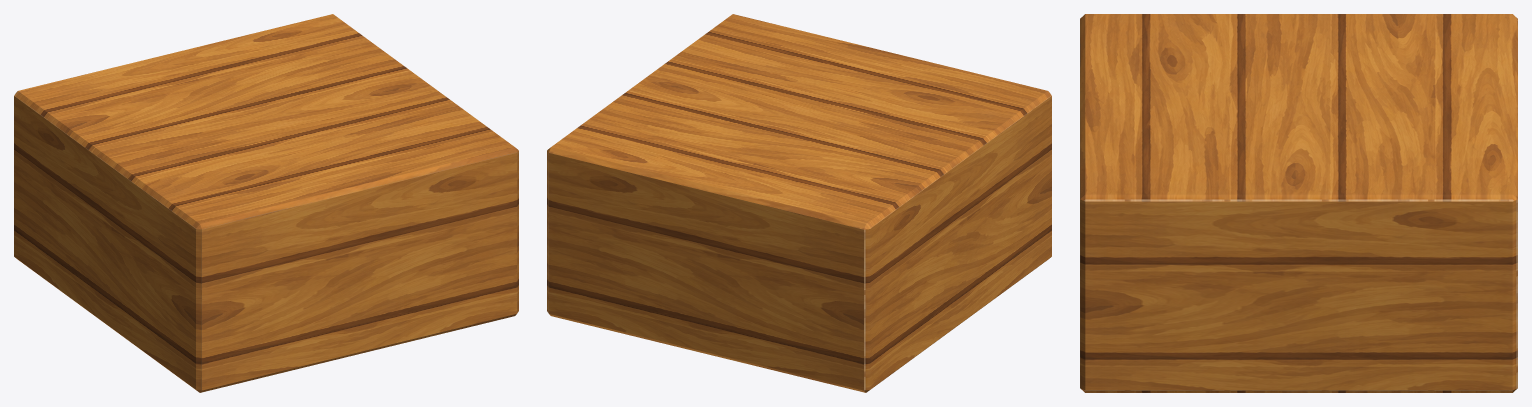
Rendered from oak-slab.glb.
3 renders of one model, left to right at view 1: azimuth 30°, elevation 25°; view 2: azimuth 150°, elevation 25°; view 3: azimuth 270°, elevation 25°, orthographic. The views are drawn at different scales.
Parts seen in each view (by area): view 1: OakSlabMesh; view 2: OakSlabMesh; view 3: OakSlabMesh.
Boxes of the visible parts, x1,y1,x2,y2 form: OakSlabMesh: [14, 14, 518, 392]; OakSlabMesh: [547, 14, 1051, 392]; OakSlabMesh: [1080, 14, 1517, 392].
Size of the model in its own units: 1 by 0.5 by 1.
1 material, 1 textured.
